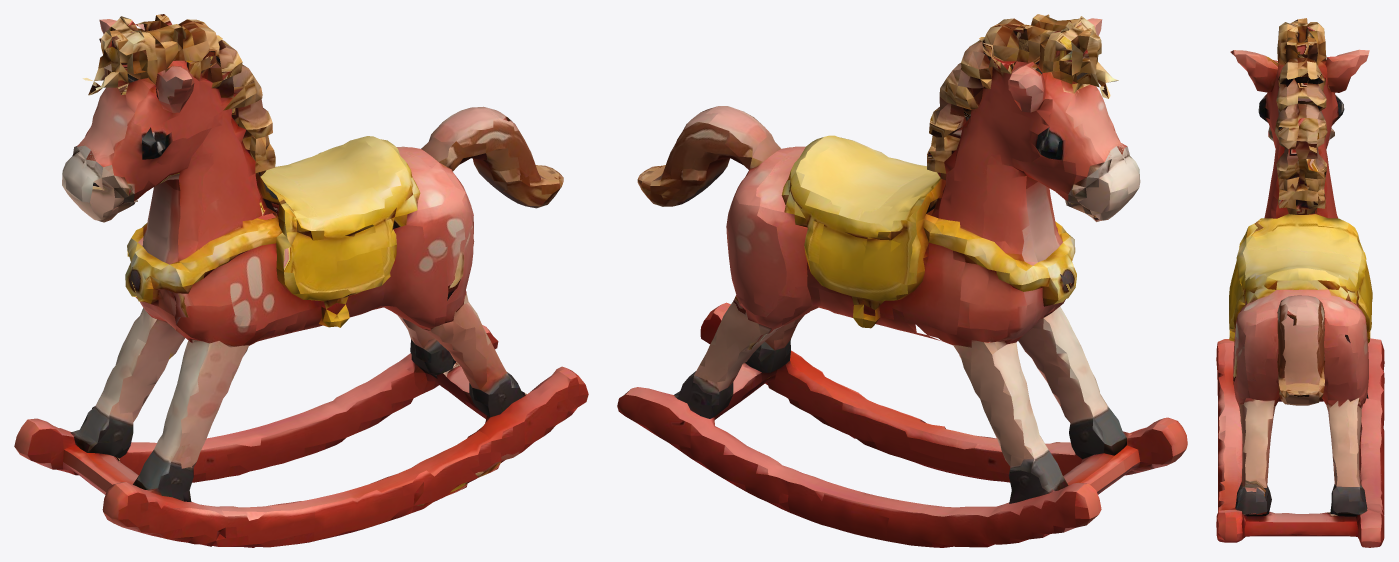
Rendered from xsw_horse.glb.
The picture shows the model from 3 angles, left to right: view 1: azimuth 30°, elevation 25°; view 2: azimuth 150°, elevation 25°; view 3: azimuth 270°, elevation 25°; orthographic projection. The views are drawn at different scales.
Visible parts, largest first — view 1: mesh_q; view 2: mesh_q; view 3: mesh_q.
Part boxes in pixels (left/top/right/bottom): mesh_q: left=14, top=14, right=588, bottom=547; mesh_q: left=617, top=14, right=1187, bottom=547; mesh_q: left=1216, top=18, right=1384, bottom=547.
Bounding box in the file's own units: 97.49 × 97.22 × 35.31.
1 material, 1 textured.
